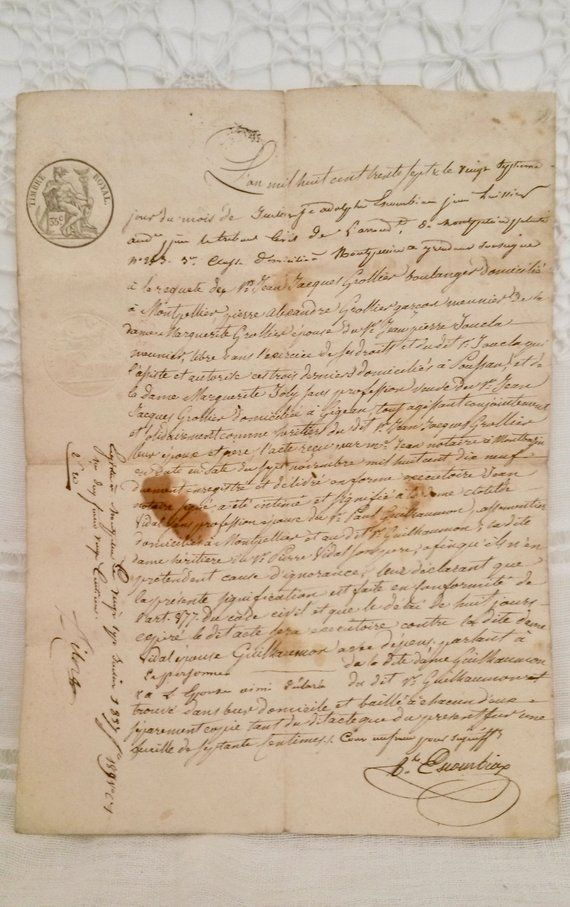page: (25, 92, 551, 832)
